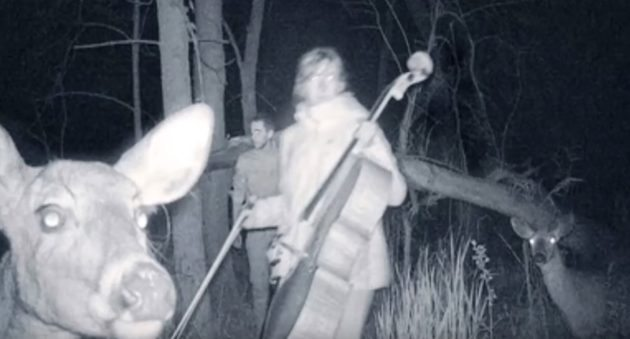deer: (1, 93, 222, 339)
